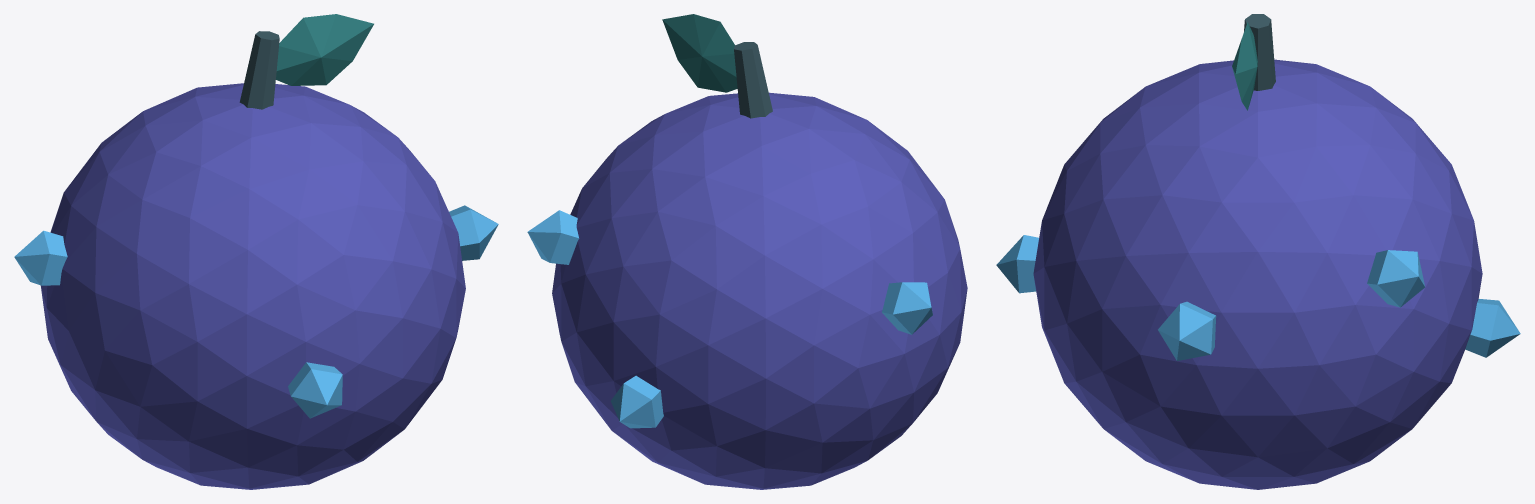
The model's file is CrystalberryFruit.obj.
3 renders of one model, left to right at view 1: azimuth 30°, elevation 25°; view 2: azimuth 150°, elevation 25°; view 3: azimuth 270°, elevation 25°, orthographic. The views are drawn at different scales.
Visible parts, largest first — view 1: CrystalberryFruit_CrystalberryBody, CrystalberryFruit_CrystalberryCrystals, CrystalberryFruit_CrystalberryLeaf, CrystalberryFruit_CrystalberryStem; view 2: CrystalberryFruit_CrystalberryBody, CrystalberryFruit_CrystalberryCrystals, CrystalberryFruit_CrystalberryLeaf, CrystalberryFruit_CrystalberryStem; view 3: CrystalberryFruit_CrystalberryBody, CrystalberryFruit_CrystalberryCrystals, CrystalberryFruit_CrystalberryStem, CrystalberryFruit_CrystalberryLeaf.
Boxes of the visible parts, x1,y1,x2,y2 form: CrystalberryFruit_CrystalberryBody: (40, 83, 465, 489); CrystalberryFruit_CrystalberryCrystals: (14, 205, 498, 418); CrystalberryFruit_CrystalberryLeaf: (276, 14, 373, 85); CrystalberryFruit_CrystalberryStem: (239, 31, 279, 109); CrystalberryFruit_CrystalberryBody: (552, 92, 967, 489); CrystalberryFruit_CrystalberryCrystals: (527, 210, 932, 428); CrystalberryFruit_CrystalberryLeaf: (662, 14, 737, 92); CrystalberryFruit_CrystalberryStem: (734, 42, 772, 118); CrystalberryFruit_CrystalberryBody: (1033, 59, 1482, 489); CrystalberryFruit_CrystalberryCrystals: (996, 235, 1520, 360); CrystalberryFruit_CrystalberryStem: (1244, 14, 1275, 90); CrystalberryFruit_CrystalberryLeaf: (1232, 22, 1257, 110).
Size of the model in its own units: 1.13 by 1.16 by 1.17.
